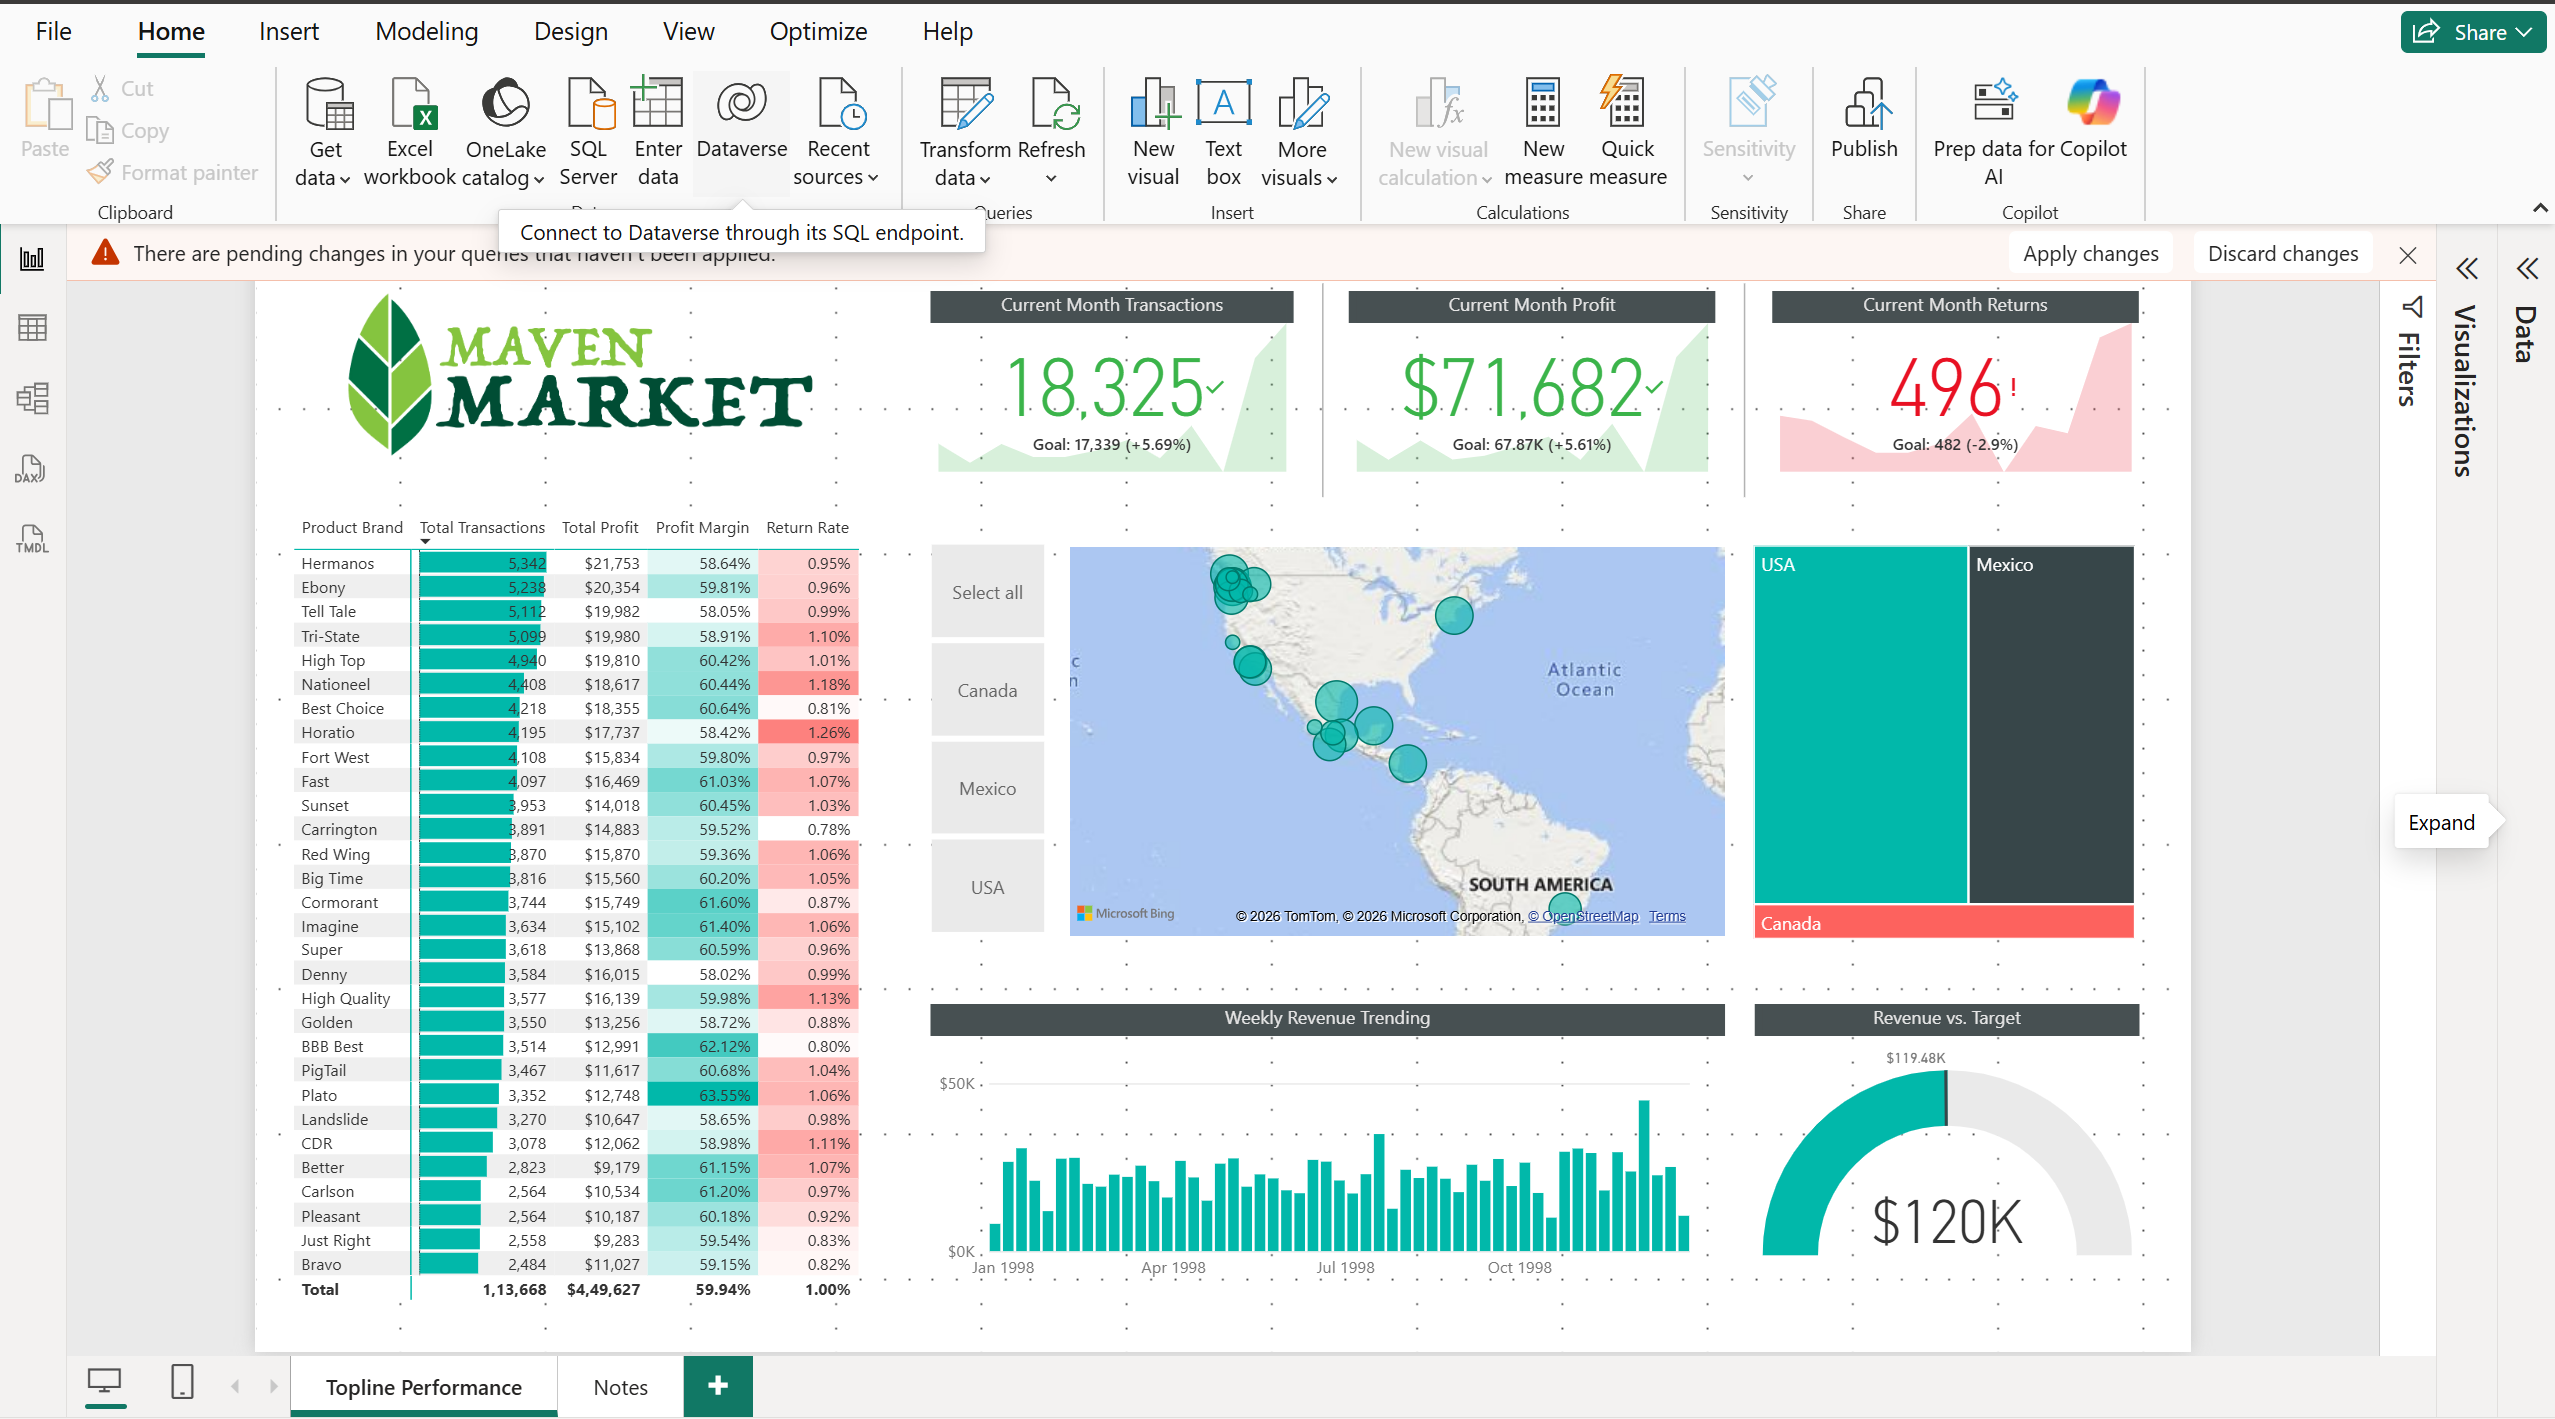

The dashboard page shown, as its layout file describes it:
{"tool":"powerbi","page":{"name":"Topline Performance","canvas":[1280,720],"ordinal":0},"visuals":[{"type":"image","box":[40,7.5,346.6,132.7],"z":0},{"type":"pivotTable","fields":{"Rows":["Products.product_brand"],"Values":["Transaction_Data.Total Transactions","Transaction_Data.Total Profit","Transaction_Data.Profit Margin","Return_Data.Return Rate"]},"box":[20.6,161.3,401.5,536],"z":1000},{"type":"kpi","title":"Current Month Transactions","fields":{"Goal":["Transaction_Data.Last Month Transactions"],"Indicator":["Transaction_Data.Total Transactions"],"TrendLine":["Calendar.Start of Month"]},"box":[445.9,19,240.2,124.7],"z":2000},{"type":"kpi","title":"Current Month Profit","fields":{"Goal":["Transaction_Data.Last Month Profit"],"Indicator":["Transaction_Data.Total Profit"],"TrendLine":["Calendar.Start of Month"]},"box":[723.3,19,242.5,124.7],"z":3000},{"type":"kpi","title":"Current Month Returns","fields":{"Goal":["Return_Data.Last Month Returns"],"Indicator":["Return_Data.Total Returns"],"TrendLine":["Calendar.Start of Month"]},"box":[1003,19,242.5,124.7],"z":4000},{"type":"map","fields":{"Category":["Stores.store_city"],"Size":["Transaction_Data.Total Transactions"]},"box":[532.8,182.5,442.7,266.5],"z":5000},{"type":"slicer","fields":{"Values":["Stores.store_country"]},"box":[420.5,178.9,124.7,270],"z":6000},{"type":"columnChart","title":"Weekly Revenue Trending","fields":{"Category":["Calendar.Start of Week"],"Y":["Transaction_Data.Total Revenue"]},"box":[445.9,490,525.3,192.2],"z":7000},{"type":"gauge","title":"Revenue vs. Target","fields":{"TargetValue":["Transaction_Data.Revenue Target"],"Y":["Transaction_Data.Total Revenue"]},"box":[991.1,490,254.4,171.6],"z":8000},{"type":"basicShape","box":[671.7,2.9,67.5,161.3],"z":9000},{"type":"basicShape","box":[950.3,2.9,67.5,161.3],"z":10000},{"type":"treemap","fields":{"Group":["Stores.store_country","Stores.store_state","Stores.store_city"],"Values":["Transaction_Data.Total Transactions"]},"box":[985.8,181.4,261.9,270],"z":11000}]}

Visuals, with their boxes on the page's 1280x720 design canvas (x1, y1, x2, y2). These are canvas units, not pixel positions in the 2555x1419 screenshot, which may show the page scaled, cropped or inside an application window:
image: x1=40, y1=8, x2=387, y2=140
pivotTable - Products.product_brand x Transaction_Data.Total Transactions: x1=21, y1=161, x2=422, y2=697
"Current Month Transactions" kpi: x1=446, y1=19, x2=686, y2=144
"Current Month Profit" kpi: x1=723, y1=19, x2=966, y2=144
"Current Month Returns" kpi: x1=1003, y1=19, x2=1246, y2=144
map - Stores.store_city x Transaction_Data.Total Transactions: x1=533, y1=182, x2=976, y2=449
slicer - Stores.store_country: x1=420, y1=179, x2=545, y2=449
"Weekly Revenue Trending" columnChart: x1=446, y1=490, x2=971, y2=682
"Revenue vs. Target" gauge: x1=991, y1=490, x2=1246, y2=662
basicShape: x1=672, y1=3, x2=739, y2=164
basicShape: x1=950, y1=3, x2=1018, y2=164
treemap - Stores.store_country x Stores.store_state: x1=986, y1=181, x2=1248, y2=451
